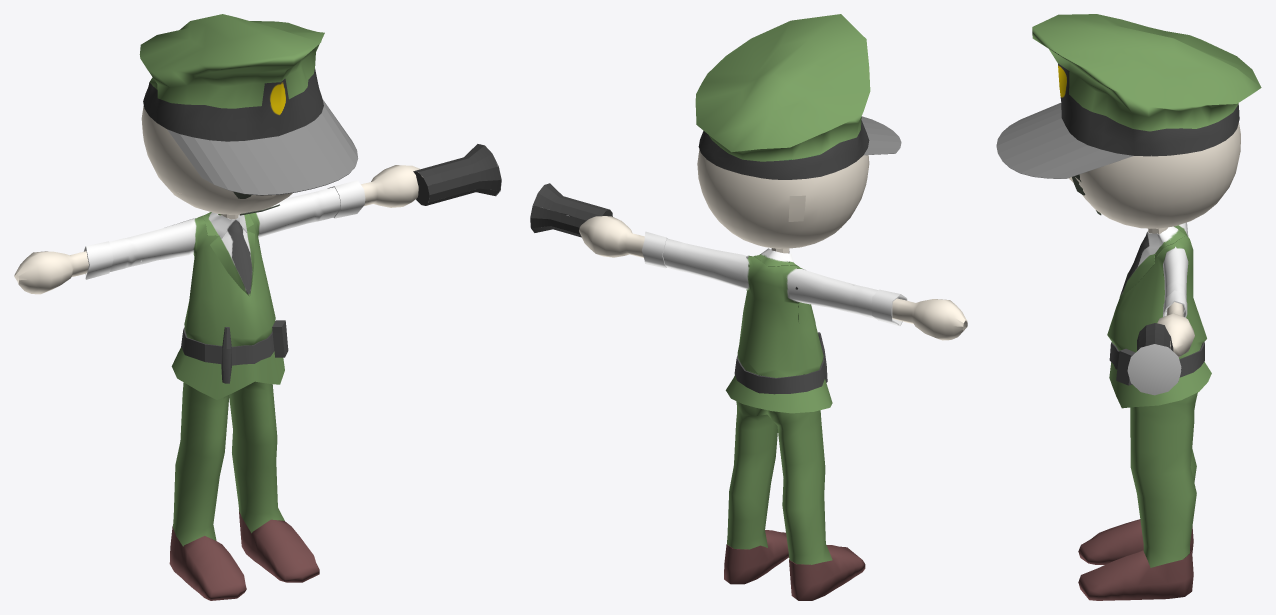
Rendered from Enemy.fbx.
3 renders of one model, left to right at view 1: azimuth 30°, elevation 25°; view 2: azimuth 150°, elevation 25°; view 3: azimuth 270°, elevation 25°, orthographic. The views are drawn at different scales.
Visible parts, largest first — view 1: bousi, Ue, zubonn, Sutai, KutuR, Flashlight, KutuL; view 2: bousi, Ue, Sutai, zubonn, KutuR, Flashlight, KutuL; view 3: bousi, Sutai, Ue, zubonn, KutuL, Flashlight, KutuR.
Part boxes in pixels (bbox=[...]): bousi: bbox=[139, 14, 358, 195]; Ue: bbox=[84, 180, 365, 399]; zubonn: bbox=[173, 381, 284, 546]; Sutai: bbox=[14, 105, 428, 294]; KutuR: bbox=[169, 526, 246, 600]; Flashlight: bbox=[413, 144, 501, 205]; KutuL: bbox=[239, 511, 319, 582]; bousi: bbox=[695, 14, 901, 179]; Ue: bbox=[642, 231, 907, 413]; Sutai: bbox=[579, 149, 967, 340]; zubonn: bbox=[727, 371, 832, 564]; KutuR: bbox=[789, 545, 865, 600]; Flashlight: bbox=[530, 183, 612, 237]; KutuL: bbox=[724, 530, 788, 584]; bousi: bbox=[996, 14, 1261, 178]; Sutai: bbox=[1068, 122, 1240, 357]; Ue: bbox=[1107, 222, 1211, 408]; zubonn: bbox=[1130, 392, 1197, 567]; KutuL: bbox=[1078, 550, 1193, 600]; Flashlight: bbox=[1127, 323, 1181, 395]; KutuR: bbox=[1078, 519, 1193, 564].
Size of the model in its own units: 1.33 by 1.51 by 0.6645.
7 materials, 7 textured.
